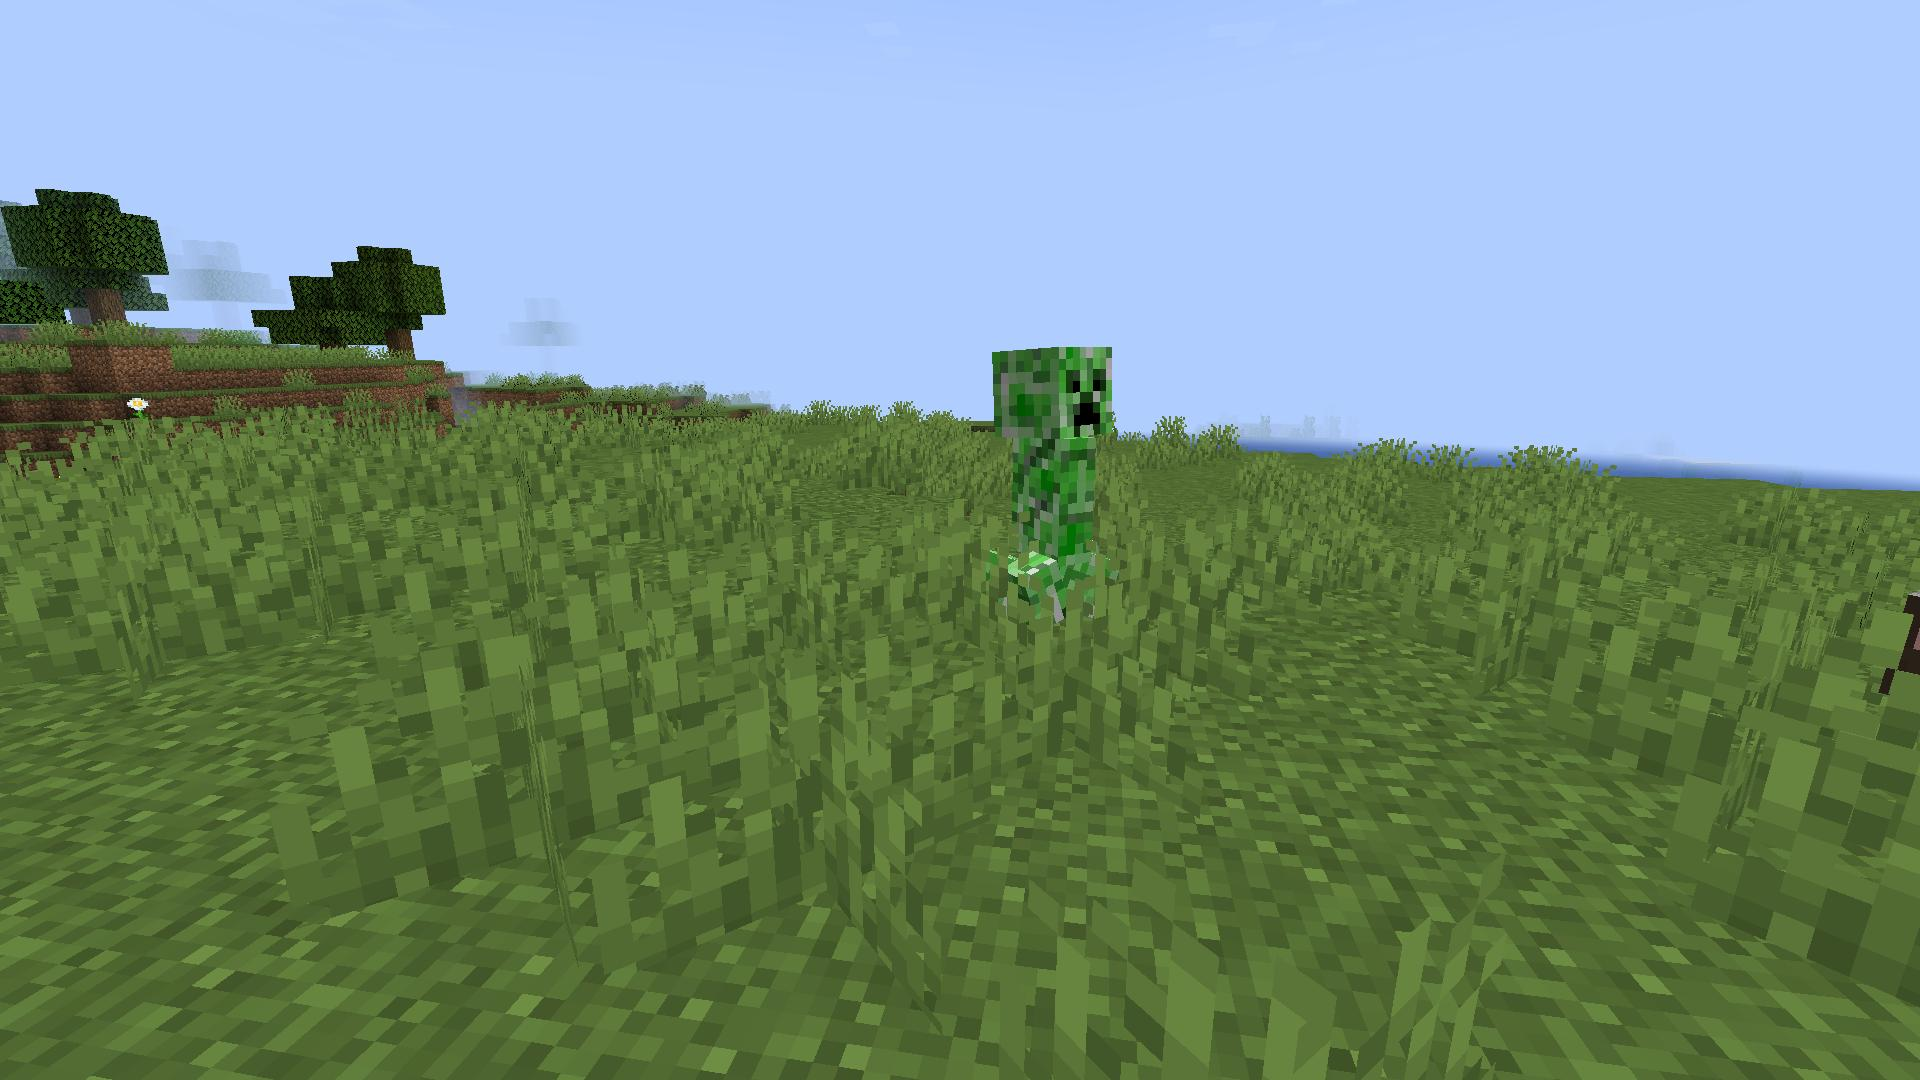creeper: (985, 339, 1133, 641)
